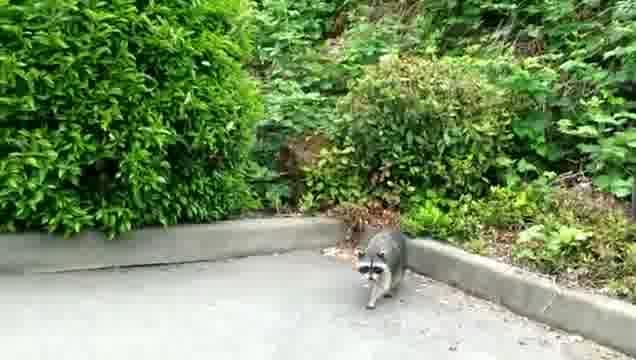raccoon: (355, 227, 409, 312)
